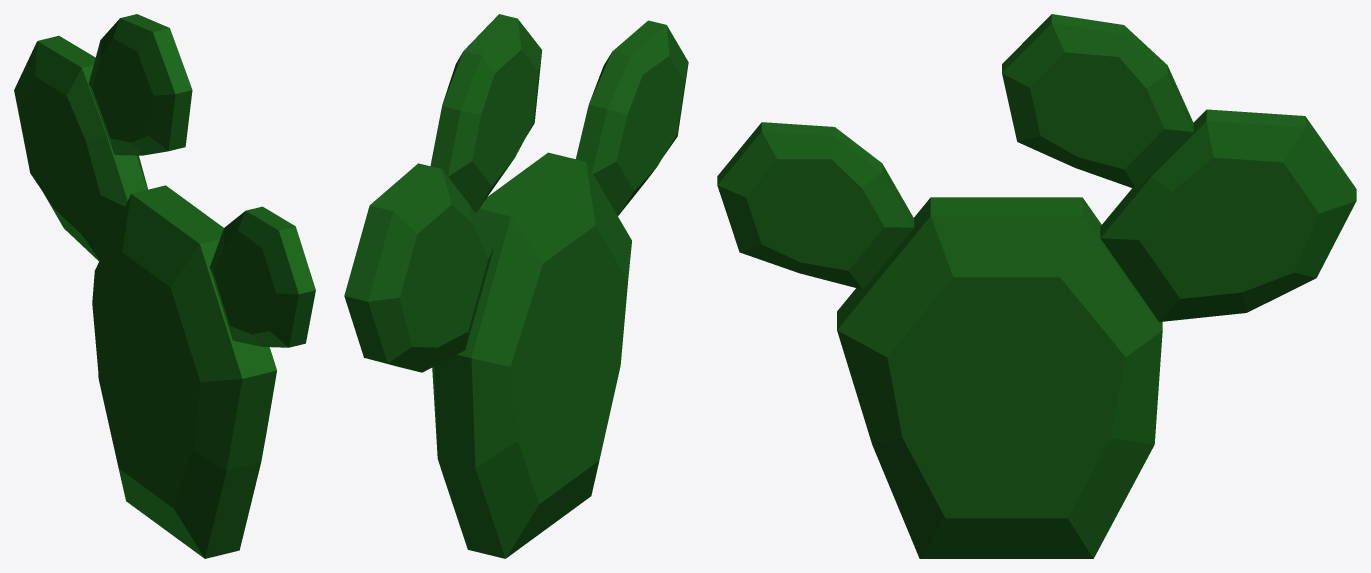
Rendered from cactus-2.glb.
The picture shows the model from 3 angles, left to right: view 1: azimuth 30°, elevation 25°; view 2: azimuth 150°, elevation 25°; view 3: azimuth 270°, elevation 25°; orthographic projection. The views are drawn at different scales.
Visible parts, largest first — view 1: Cube.005, Cube.006, Cube.008, Cube.007; view 2: Cube.005, Cube.006, Cube.007, Cube.008; view 3: Cube.005, Cube.006, Cube.008, Cube.007.
Boxes of the visible parts, x1,y1,x2,y2 form: Cube.005: (92, 185, 276, 558); Cube.006: (14, 35, 147, 261); Cube.008: (209, 206, 315, 347); Cube.007: (88, 14, 192, 155); Cube.005: (432, 152, 631, 558); Cube.006: (344, 163, 494, 372); Cube.007: (430, 14, 542, 213); Cube.008: (576, 20, 688, 215); Cube.005: (837, 197, 1162, 558); Cube.006: (1100, 109, 1356, 321); Cube.008: (717, 122, 914, 289); Cube.007: (1002, 14, 1193, 189).
Bounding box in the file's own units: 0.1622 × 1.02 × 1.11.
